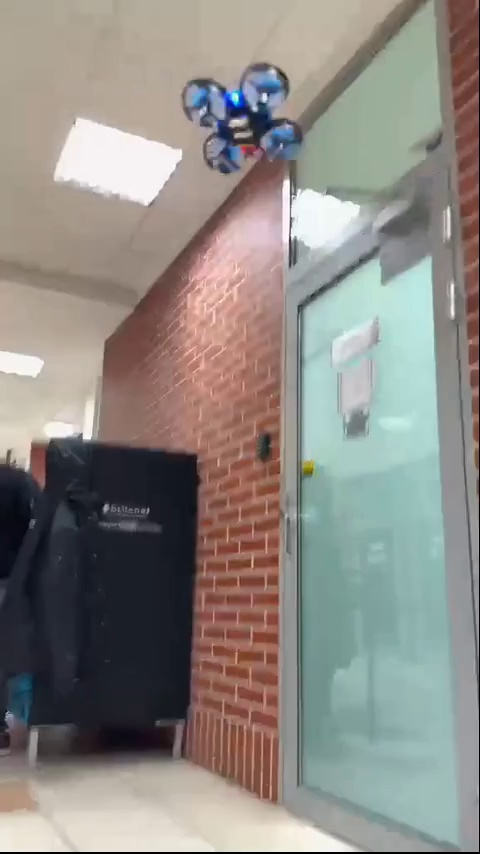drone: (183, 60, 306, 171)
